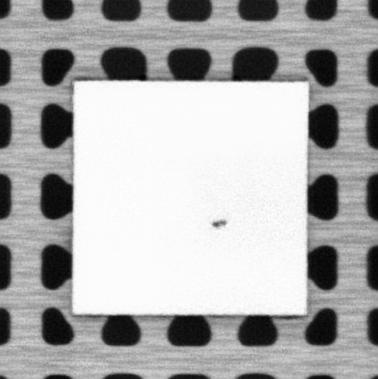DIE_INK: (209, 217, 228, 228)
